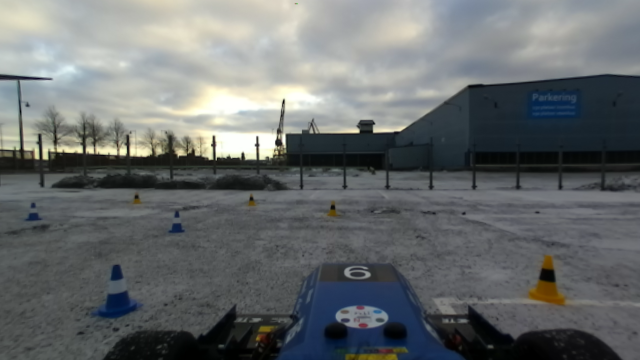blue: (95, 262, 143, 319), (167, 207, 186, 236), (25, 200, 43, 223)
yellow: (528, 254, 568, 308)
